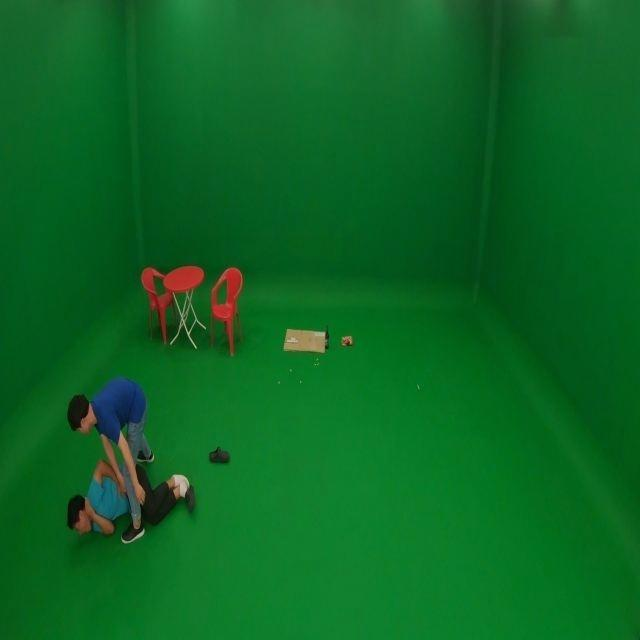fight: (58, 377, 197, 550)
